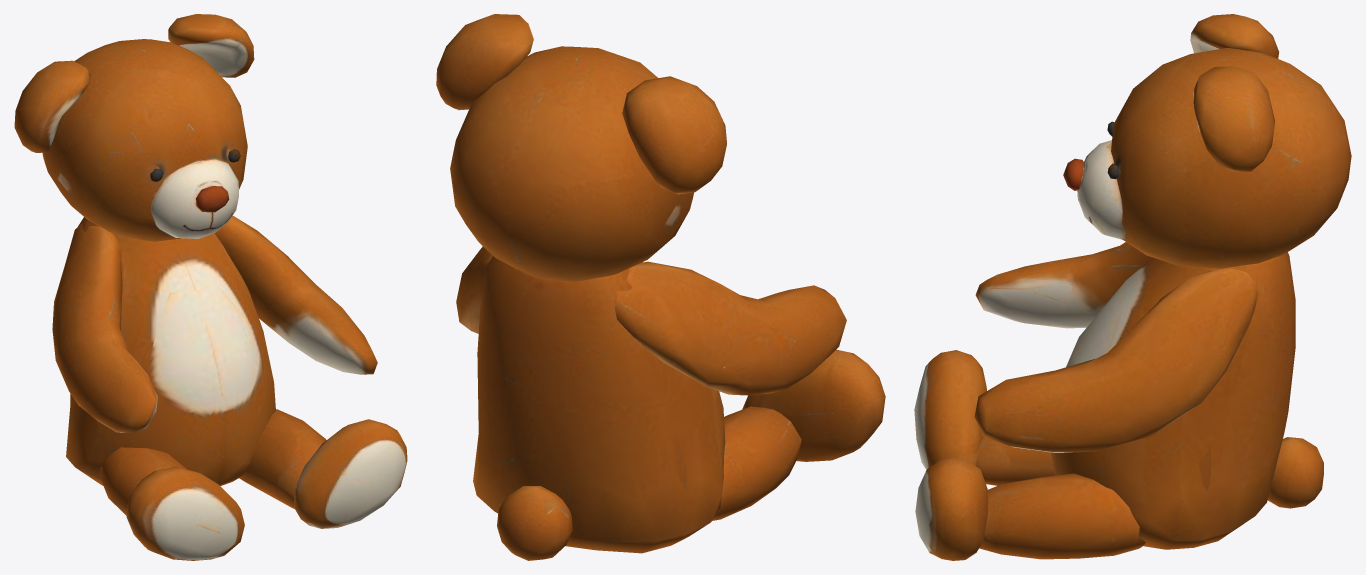
Rendered from teddy.glb.
3 views of the same model, side by side, from view 1: azimuth 30°, elevation 25°; view 2: azimuth 150°, elevation 25°; view 3: azimuth 270°, elevation 25° (orthographic). The views are drawn at different scales.
Visible parts, largest first — view 1: teddy; view 2: teddy; view 3: teddy.
Boxes of the visible parts, left/top/right/bottom form: teddy: left=14, top=14, right=407, bottom=560; teddy: left=436, top=14, right=885, bottom=560; teddy: left=914, top=14, right=1351, bottom=560.
Size of the model in its own units: 0.2045 by 0.3 by 0.2514.
Materials: 1 (1 with a texture image).
